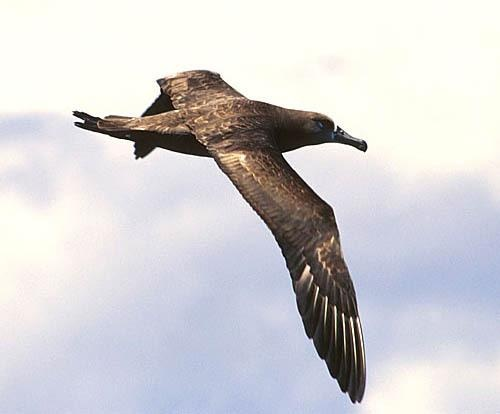bird: (60, 64, 373, 406)
